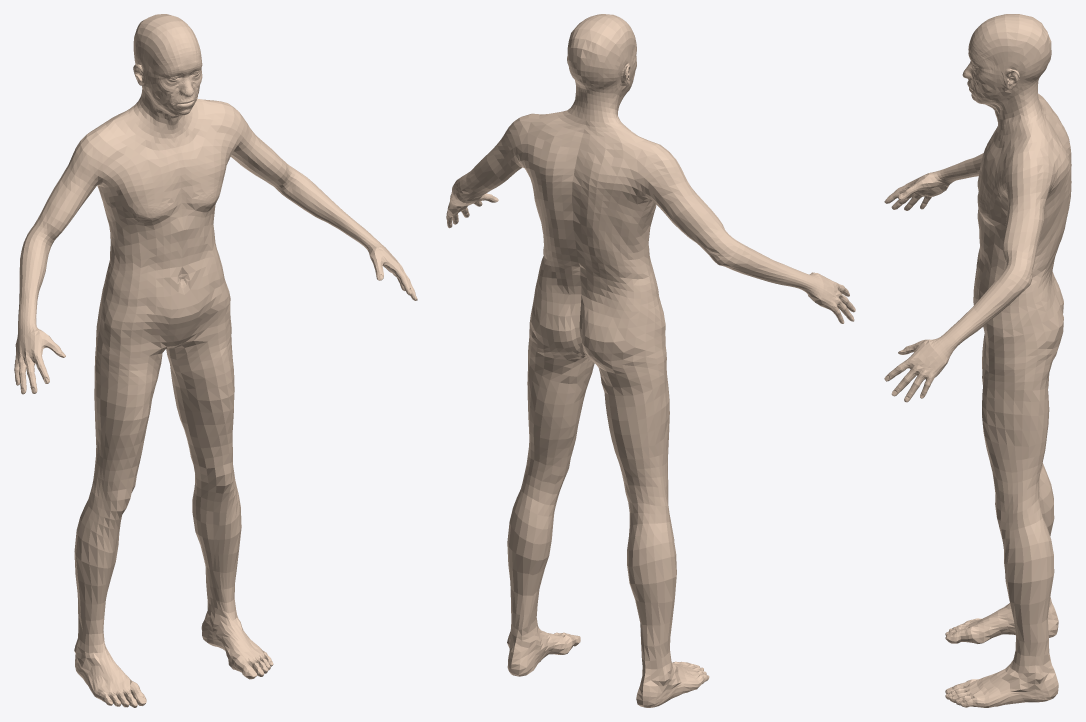
File: male-older-lean-high.glb
3 views of the same model, side by side, from view 1: azimuth 30°, elevation 25°; view 2: azimuth 150°, elevation 25°; view 3: azimuth 270°, elevation 25° (orthographic).
Visible parts, largest first — view 1: world; view 2: world; view 3: world.
Part boxes in pixels (bbox=[...]): world: bbox=[14, 14, 417, 707]; world: bbox=[446, 14, 855, 707]; world: bbox=[884, 14, 1071, 707].
Bounding box in the file's own units: 1.22 × 1.93 × 0.5013.
